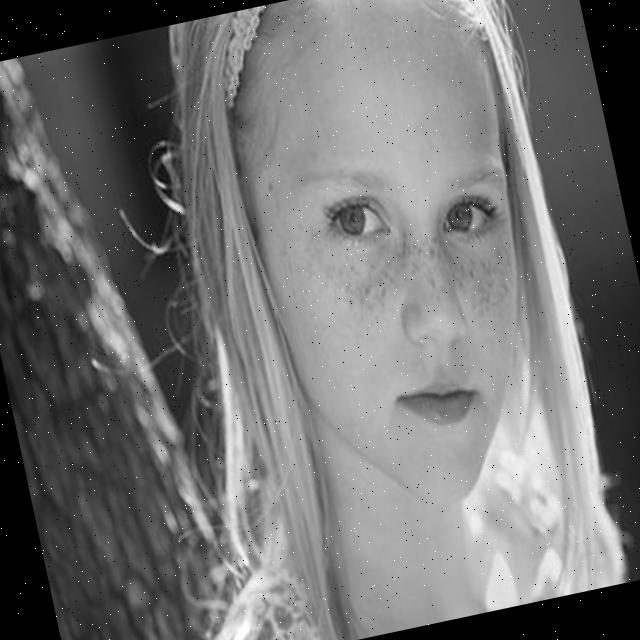Neutral: (213, 0, 575, 528)
